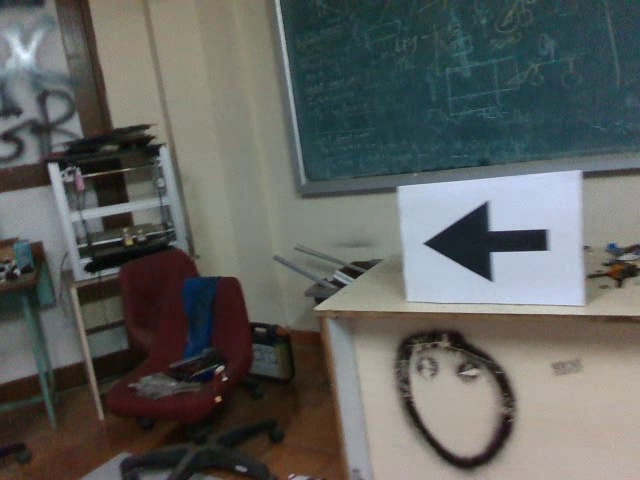Left: (414, 196, 554, 285)
